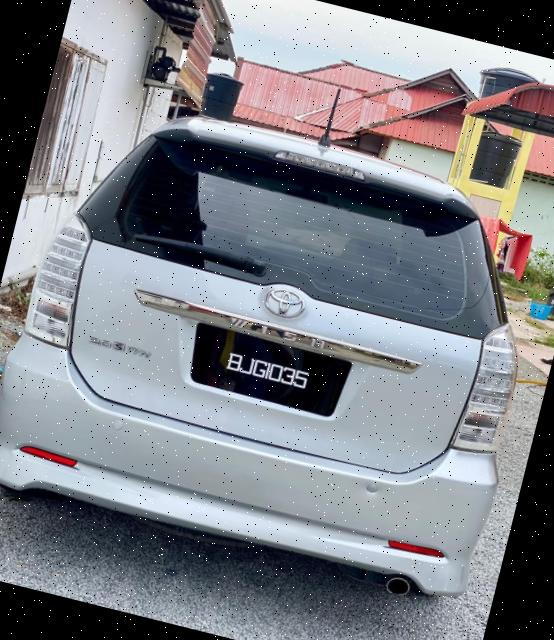License_Plate: (200, 332, 342, 411)
car: (1, 81, 554, 616)
